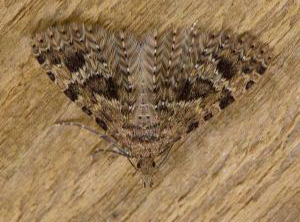Alucitidae: (28, 13, 277, 185)
moth: (30, 15, 279, 187)
